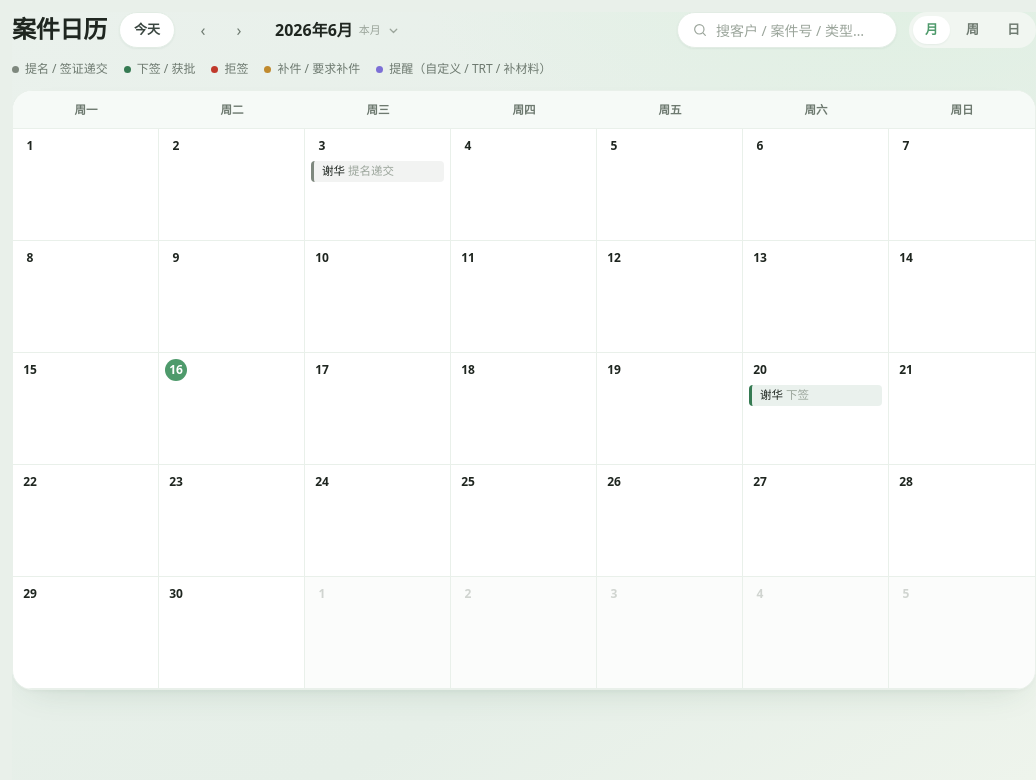
it: CalendarPage·Google 风（顶栏 + 彩条 + 三视图） › 搜索：按事件类型过滤彩条
The image size is (1036, 780).
Type "下签" into the search field named "搜索事件" at {"x": 799, "y": 30}, box [716,13,882,47]
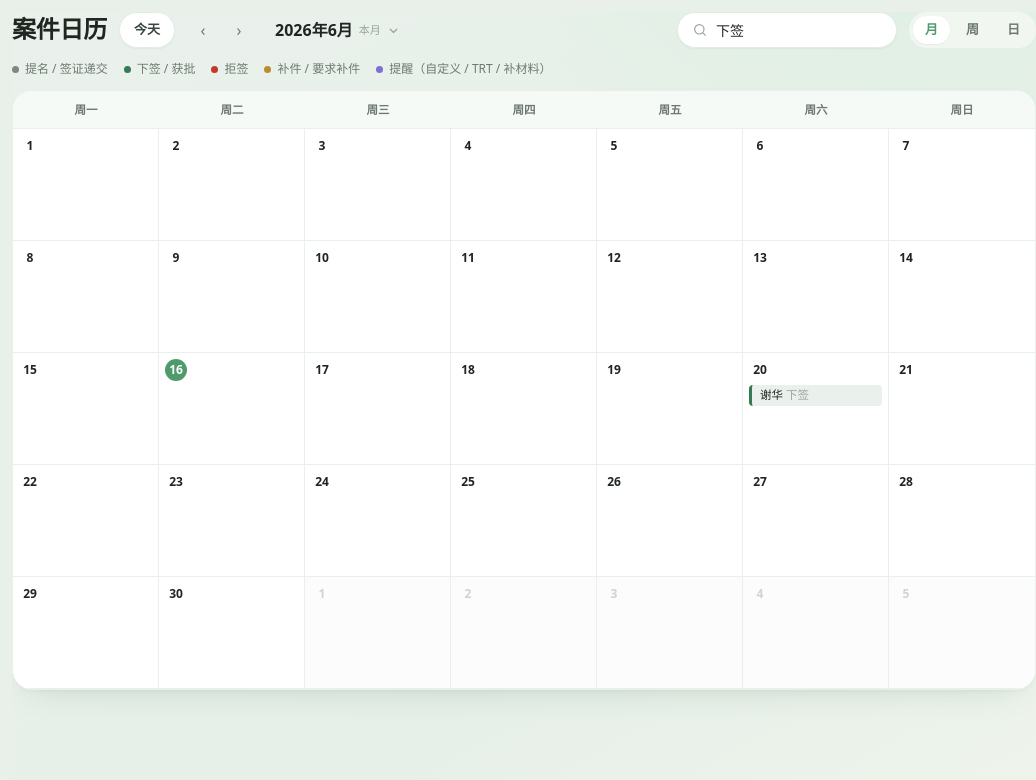
Expected: the button "谢华 下签" is shown, [749,385,882,406]
Now the button "谢华 提名递交" is gone
